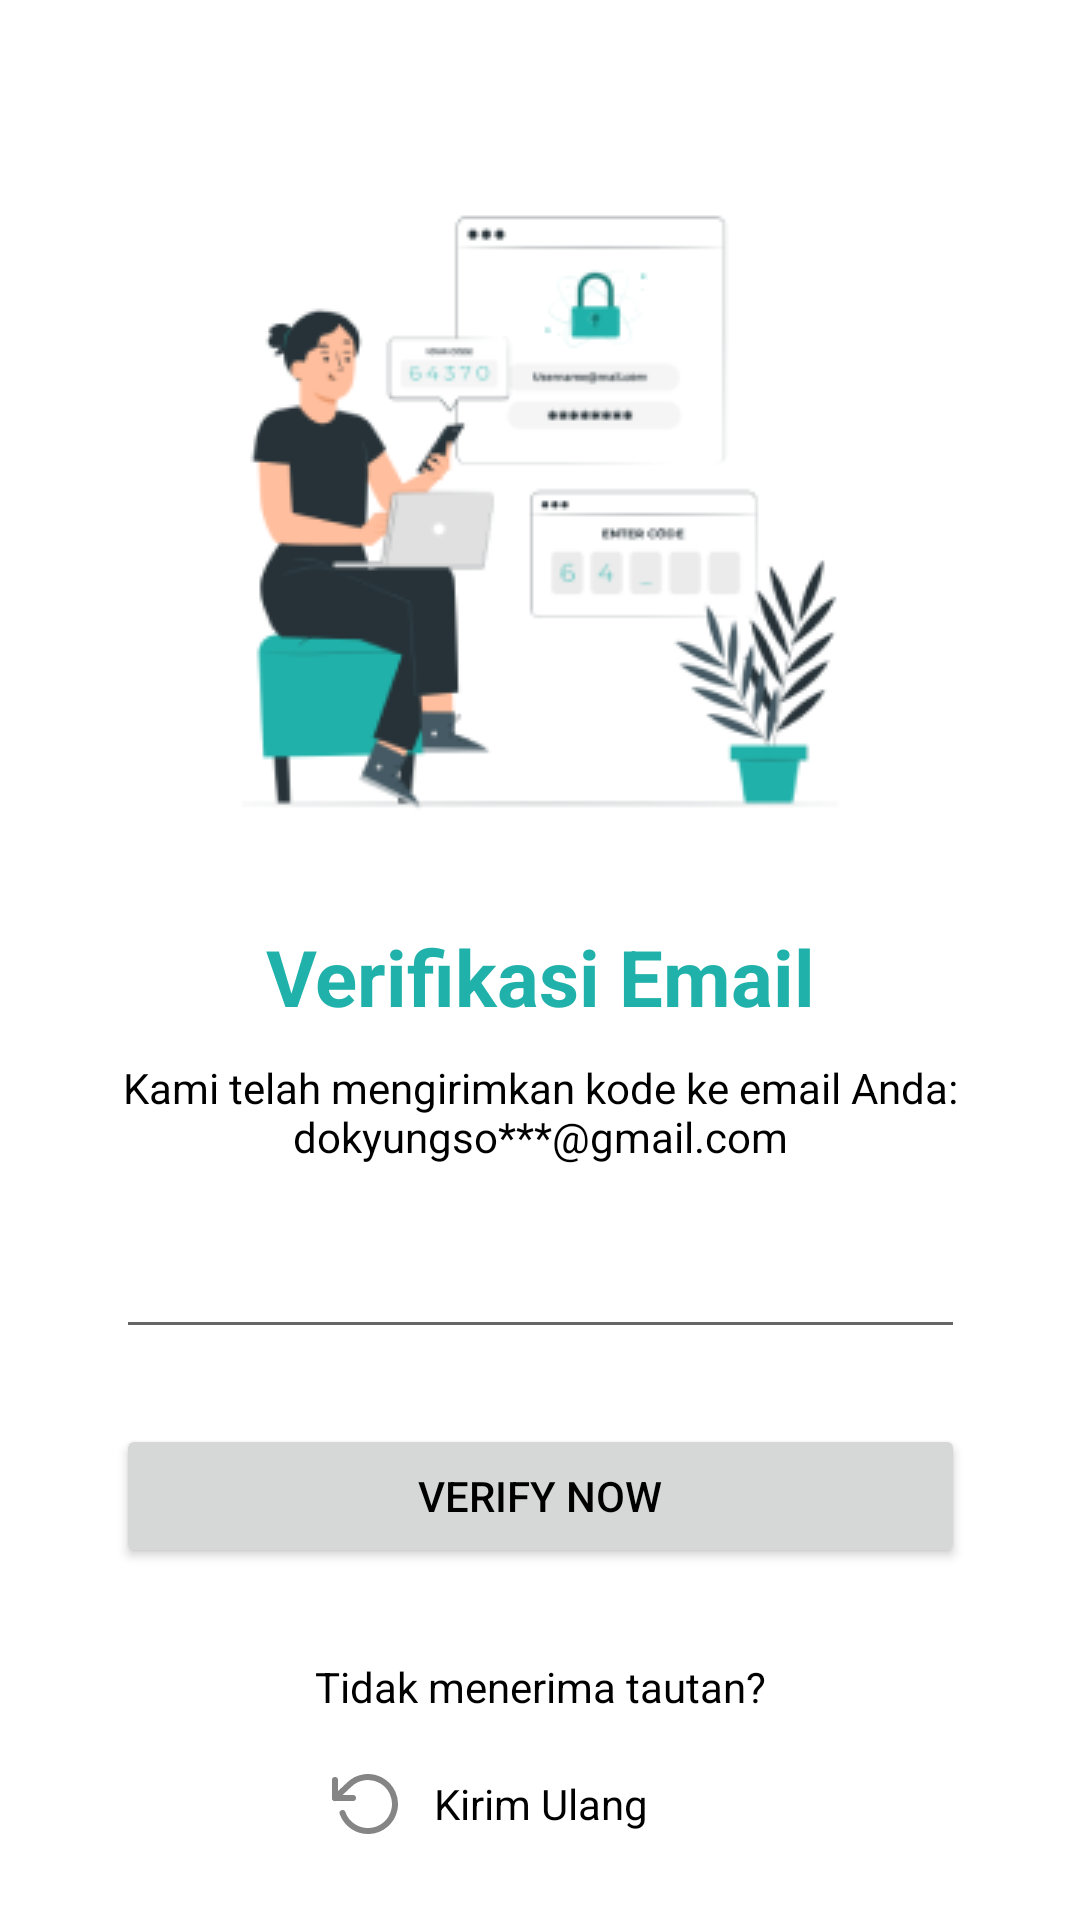

Named icons in this screenshot (1080×1920) and their bounding boxes, (x1, y1, x2, y2):
reload: (332, 1774, 398, 1834)
